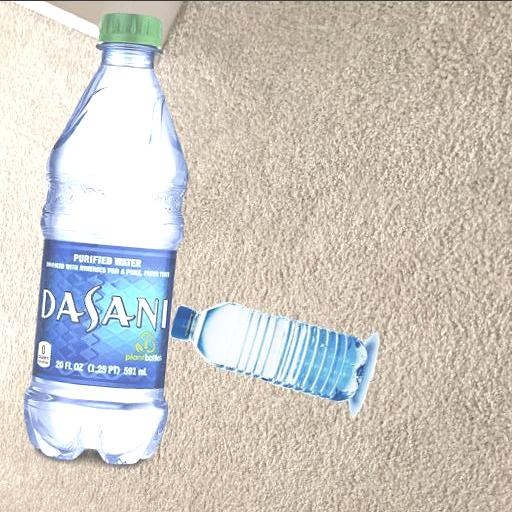bottle: (20, 7, 192, 479), (169, 294, 374, 420)
